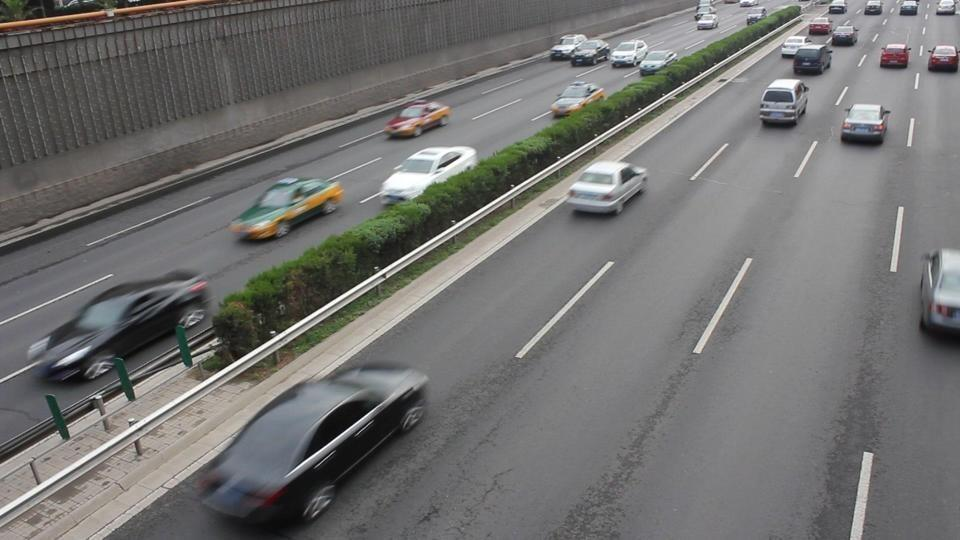car: (197, 362, 431, 527), (28, 272, 212, 384), (226, 175, 345, 242), (379, 145, 478, 206), (566, 159, 649, 216), (920, 247, 960, 337), (382, 101, 452, 140), (759, 78, 810, 126), (550, 80, 606, 120), (838, 103, 892, 144), (791, 43, 834, 76), (609, 39, 650, 68), (638, 50, 679, 75), (927, 44, 959, 73), (879, 41, 910, 69), (830, 22, 858, 47), (807, 18, 833, 37), (696, 12, 718, 30), (828, 1, 847, 15)
